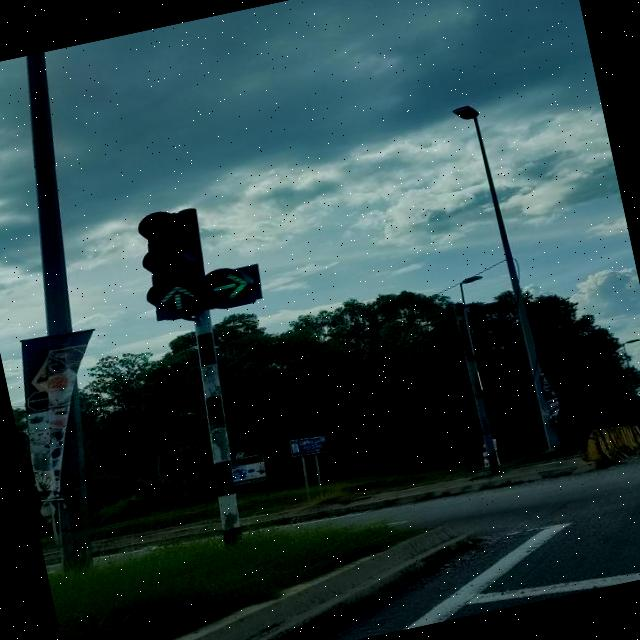green_light: (130, 202, 216, 322), (186, 194, 264, 311)
